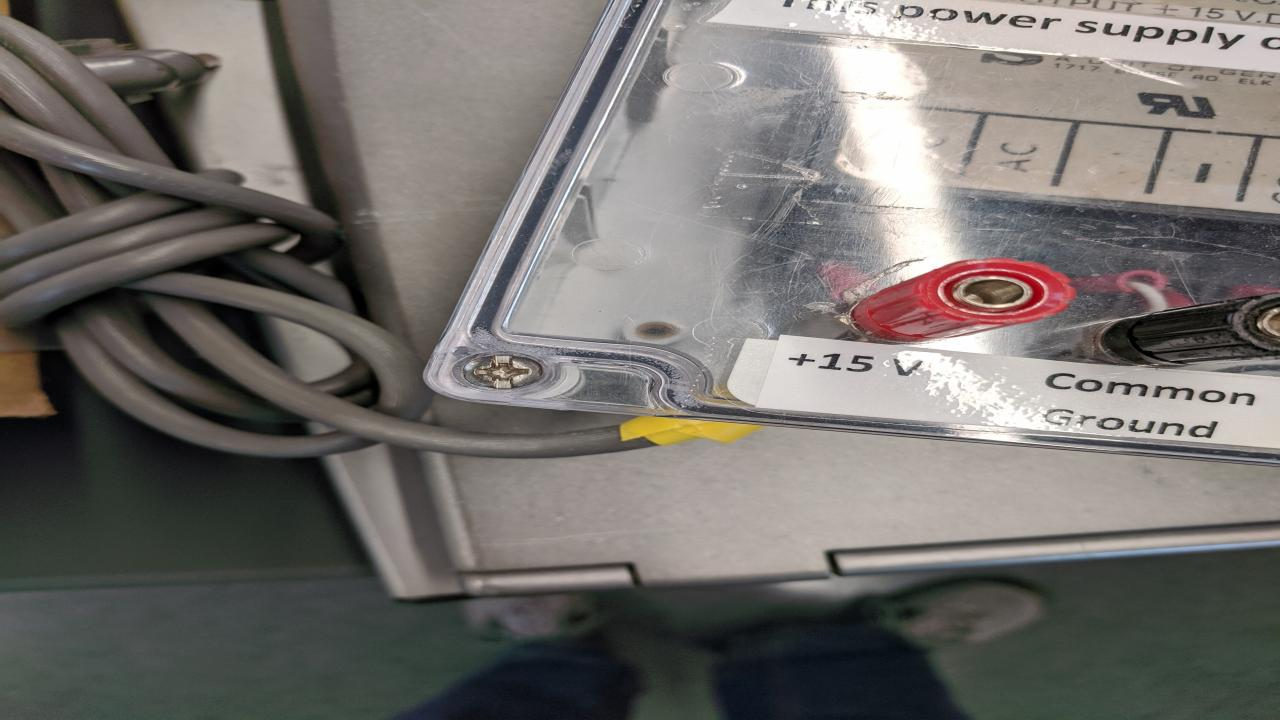CRS: (471, 354, 540, 390)
